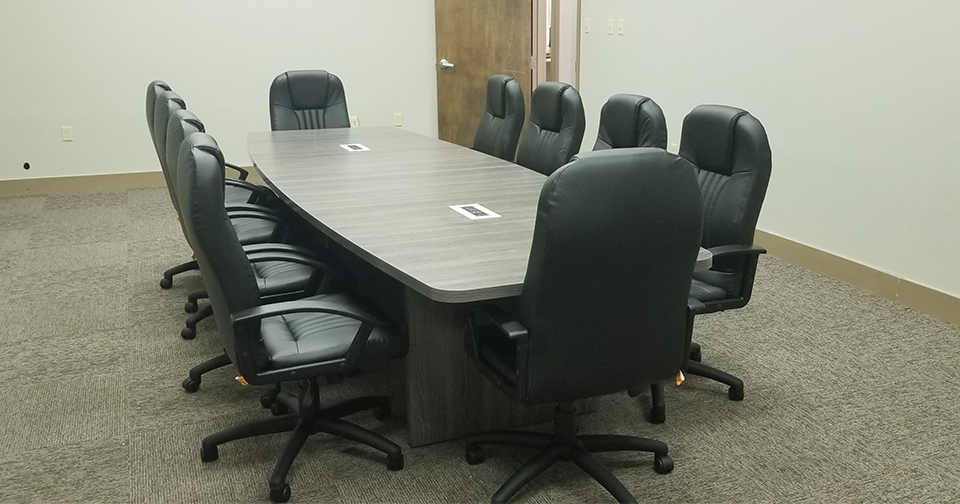conference_table: (246, 125, 713, 448)
